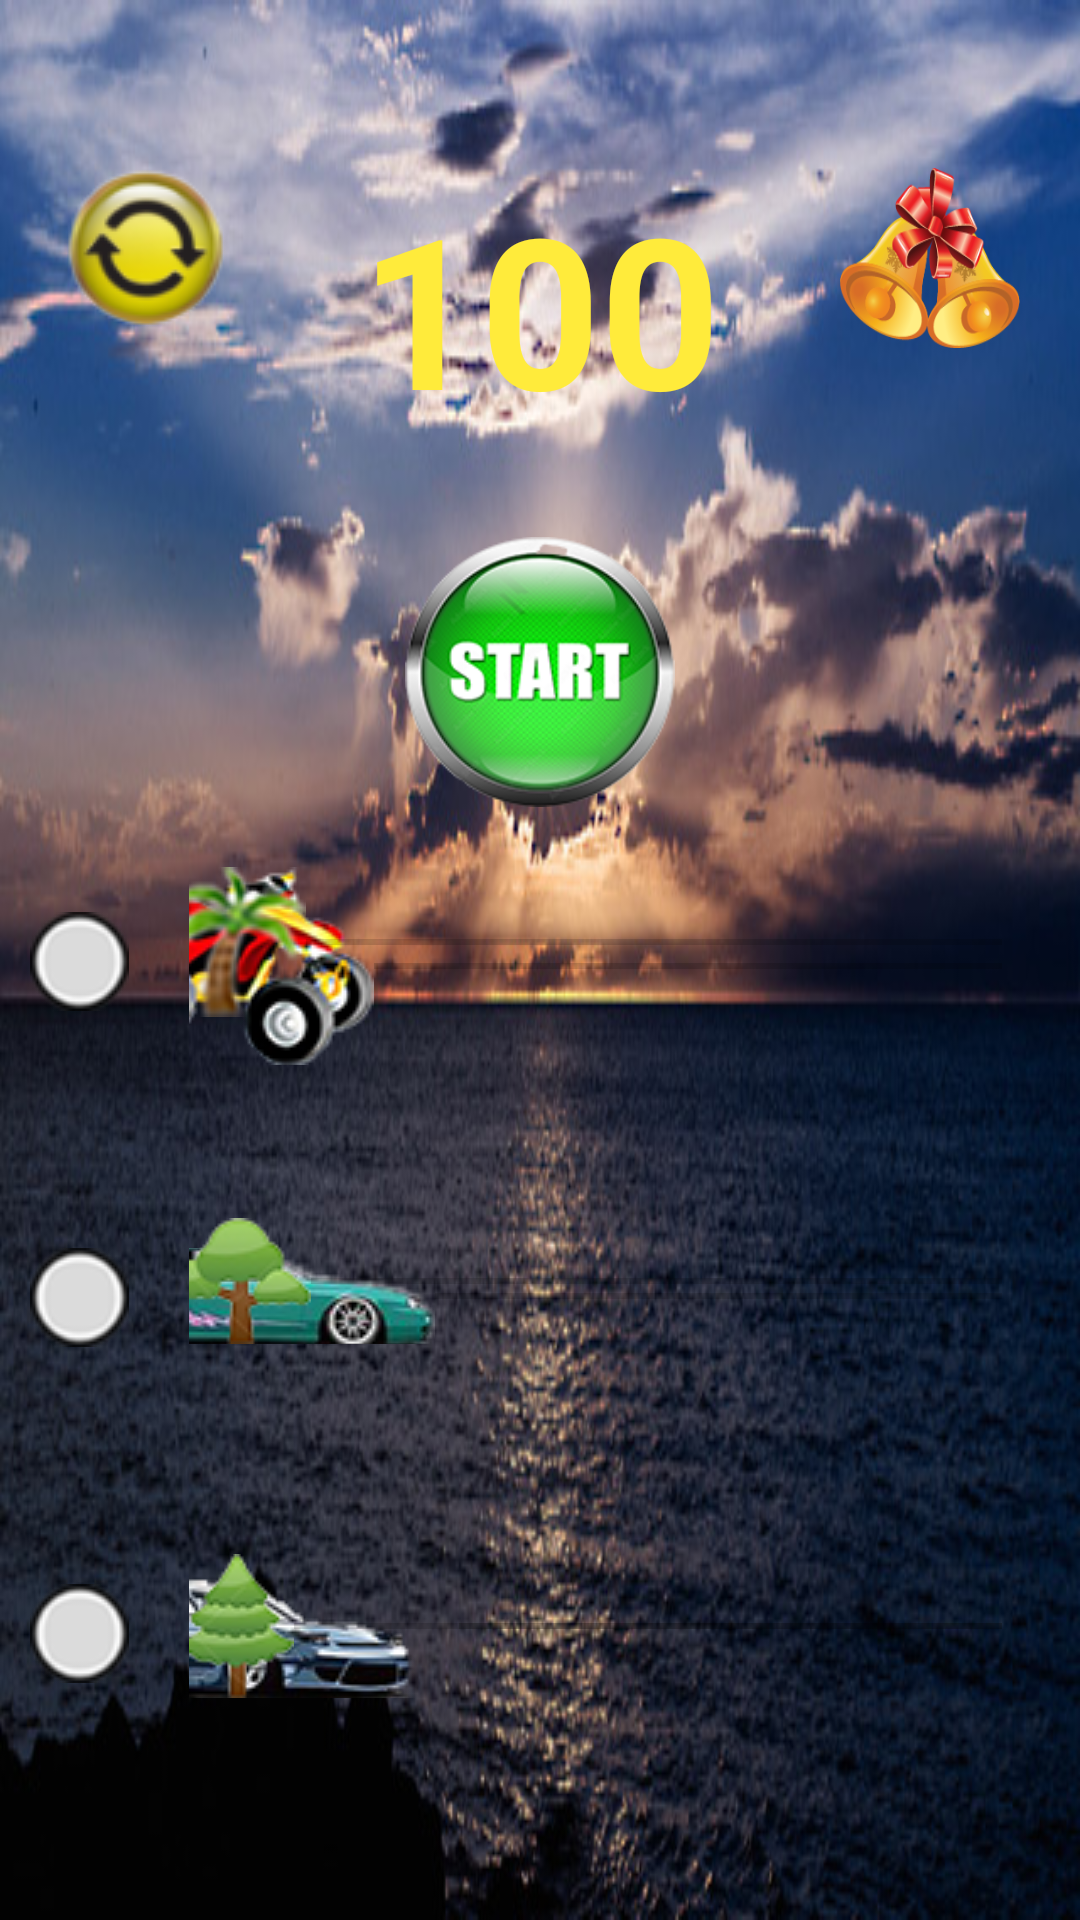

Icons on this 1080px x 1920px Android screen, each with the point to tap as (x=x, y=y):
chuong: (x=930, y=258)
restart: (x=148, y=249)
